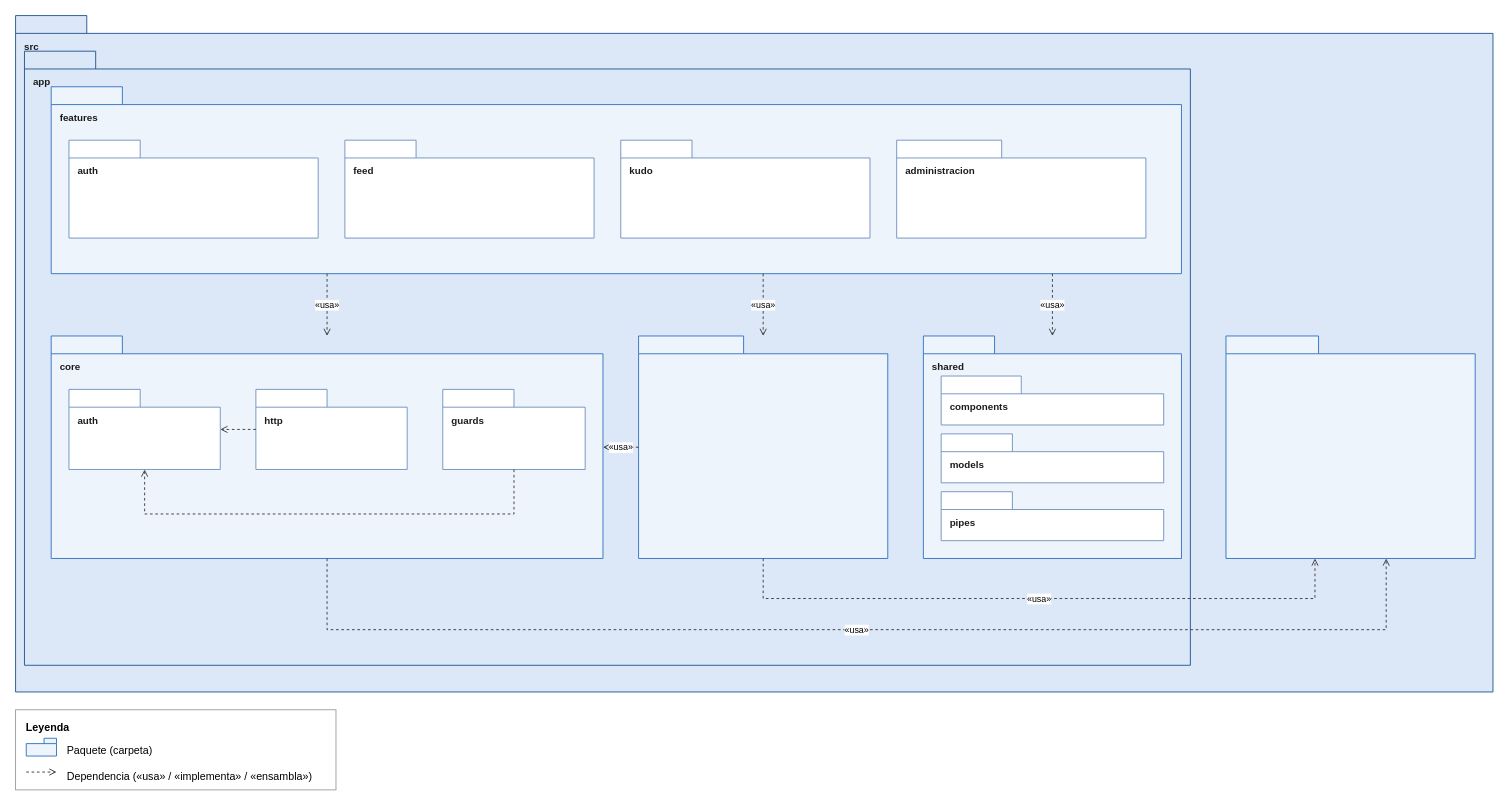
The diagram is 1509 pixels wide and 805 high, and some of its shapes have lost their labels. The centre of each missing label's shape, as x and y in pixels:
environments: (1350,446)
notificaciones: (763,446)
